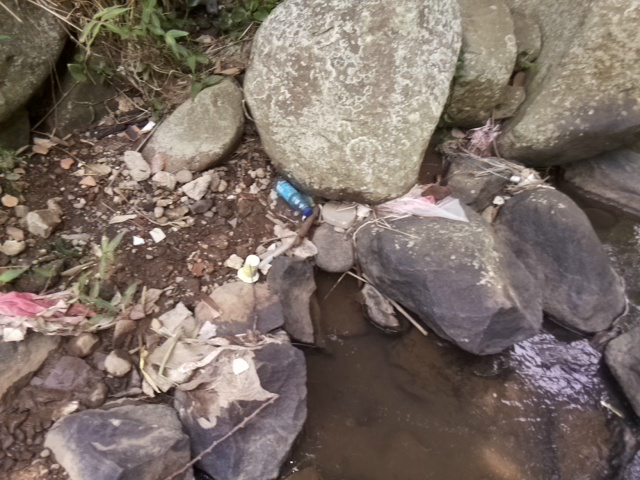Sampah_Botol_Plastik: (274, 176, 317, 219)
Sampah_Plastik: (1, 286, 107, 342), (371, 188, 470, 227), (451, 122, 502, 160)
Sampah_Styrofoam: (238, 253, 260, 286)
